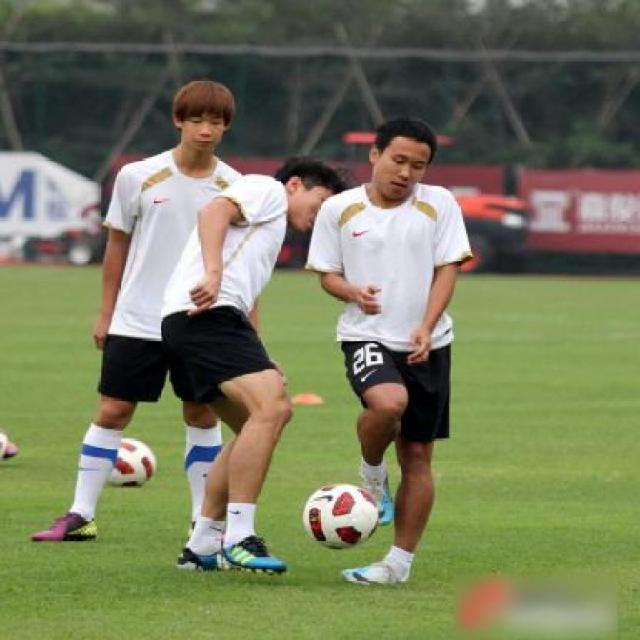Person: (310, 103, 485, 635)
